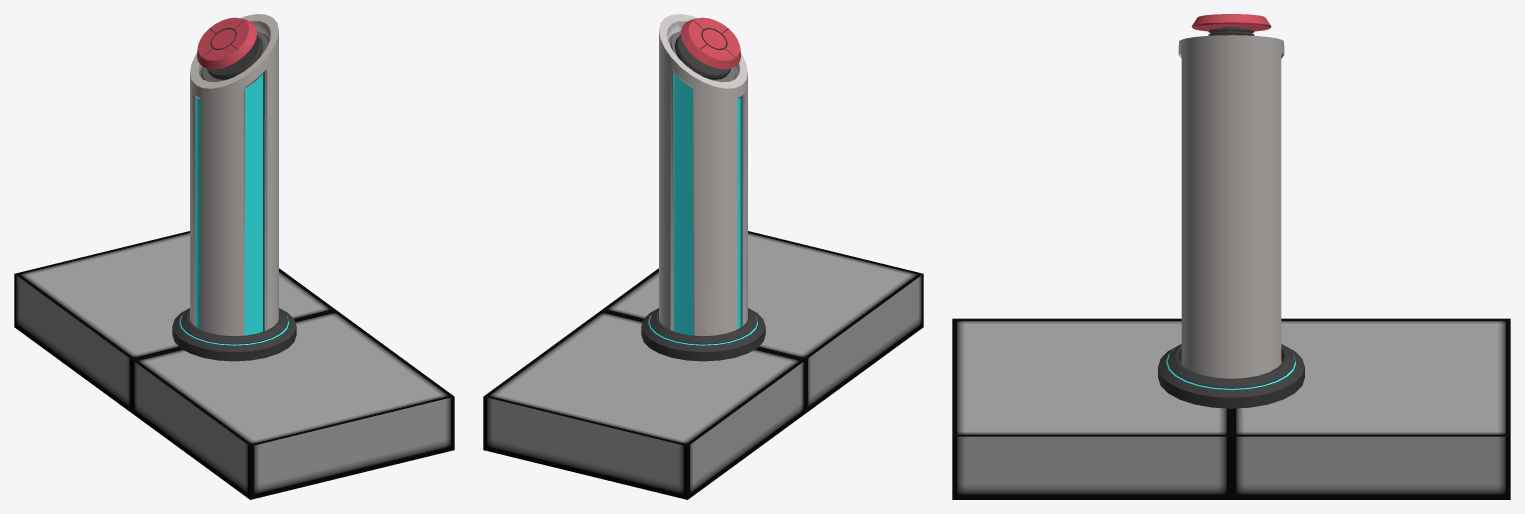
The model's file is button_ped.obj.
3 renders of one model, left to right at view 1: azimuth 30°, elevation 25°; view 2: azimuth 150°, elevation 25°; view 3: azimuth 270°, elevation 25°, orthographic. The views are drawn at different scales.
Visible parts, largest first — view 1: Cube.003, switch001.mdl/switch001_reference.smd; view 2: Cube.003, switch001.mdl/switch001_reference.smd; view 3: Cube.003, switch001.mdl/switch001_reference.smd.
Part boxes in pixels (x1,y1,x2,y2): Cube.003: [14, 231, 454, 499]; switch001.mdl/switch001_reference.smd: [172, 14, 296, 361]; Cube.003: [483, 231, 923, 499]; switch001.mdl/switch001_reference.smd: [641, 14, 765, 361]; Cube.003: [952, 318, 1510, 499]; switch001.mdl/switch001_reference.smd: [1158, 14, 1304, 408].
Bounding box in the file's own units: 0.5 × 0.8549 × 1.
